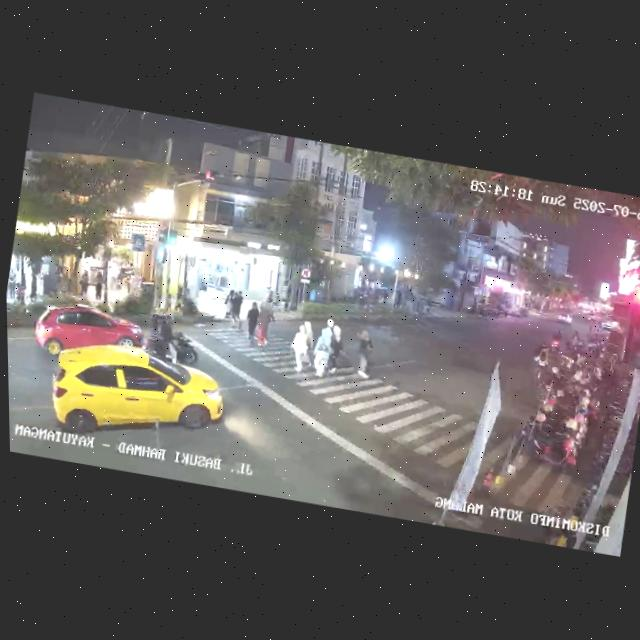car: (41, 336, 230, 468), (28, 298, 149, 373)
motorcycle: (143, 313, 207, 369)
person: (351, 330, 377, 384), (310, 324, 334, 380), (286, 323, 312, 373), (324, 323, 347, 376), (256, 302, 277, 347), (242, 299, 263, 343), (531, 346, 552, 390), (298, 320, 318, 365), (227, 288, 245, 330), (90, 271, 106, 303), (222, 288, 236, 319), (78, 268, 92, 298), (29, 273, 43, 302), (18, 272, 30, 304), (6, 273, 18, 300), (393, 287, 406, 310), (324, 318, 336, 332)
